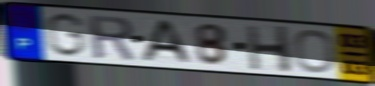8: (192, 22, 230, 67)
A: (138, 19, 196, 65)
G: (44, 11, 88, 59)
H: (244, 24, 295, 74)
O: (293, 28, 338, 74)
R: (85, 13, 138, 62)
